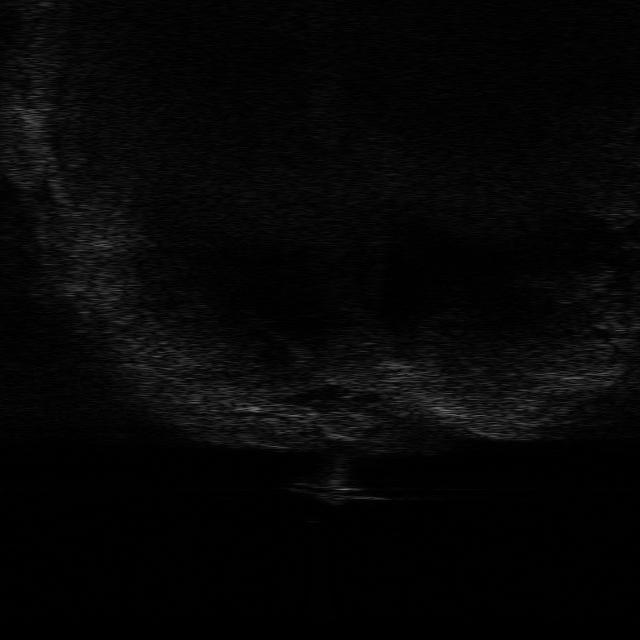plane: (282, 479, 393, 505)
